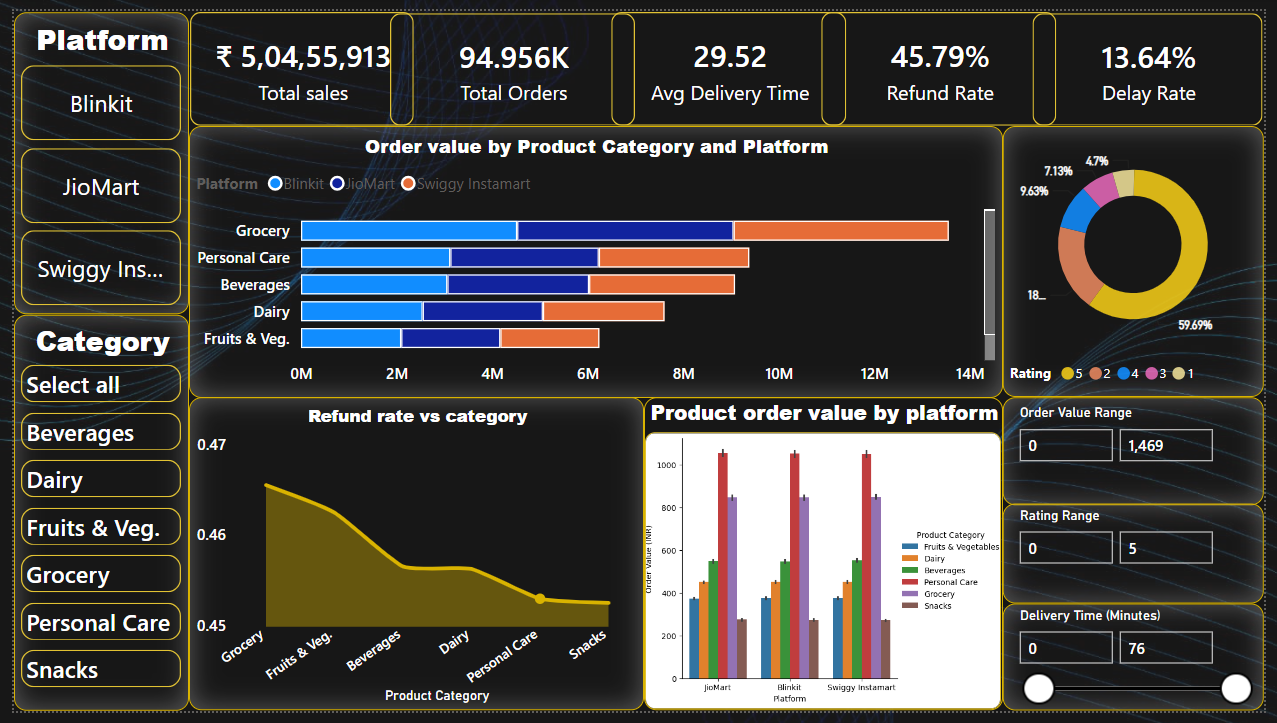

The dashboard page shown, as its layout file describes it:
{"tool":"powerbi","page":{"name":"Interactive Dashboard","canvas":[1000,560],"ordinal":0},"visuals":[{"type":"listSlicer","title":"Category","fields":{"Values":["ecommerce_data.Product Category"]},"box":[0,243,140,317],"z":0},{"type":"advancedSlicerVisual","fields":{"Values":["ecommerce_data.Platform"]},"box":[0,1,140,242],"z":1000},{"type":"cardVisual","fields":{"Data":["Sum(ecommerce_data.Order Value (INR))"]},"box":[140,0,181,99],"z":2000},{"type":"cardVisual","fields":{"Data":["CountNonNull(ecommerce_data.Order ID)"]},"box":[300,1,198,98],"z":3000},{"type":"cardVisual","fields":{"Data":["Avg(ecommerce_data.Delivery Time (Minutes))"]},"box":[477,0,190,99],"z":4000},{"type":"cardVisual","fields":{"Data":["ecommerce_data.Refund_Rate"]},"box":[645,0,190,99],"z":5000},{"type":"cardVisual","fields":{"Data":["ecommerce_data.Delay_Rate"]},"box":[814,1,186,98],"z":6000},{"type":"barChart","fields":{"Category":["ecommerce_data.Product Category"],"Y":["Sum(ecommerce_data.Order Value (INR))"],"Series":["ecommerce_data.Platform"]},"box":[140,92,651,218],"z":7000},{"type":"donutChart","fields":{"Y":["Sum(ecommerce_data.Service Rating)"],"Category":["ecommerce_data.Service Rating"]},"box":[791,92,209,217],"z":8000},{"type":"image","title":"Product order value by platform","box":[504,309,287,251],"z":9000},{"type":"slicer","fields":{"Values":["ecommerce_data.Order Value (INR)"]},"box":[791,309,209,87],"z":10000},{"type":"slicer","fields":{"Values":["ecommerce_data.Service Rating"]},"box":[791,394,209,80],"z":11000},{"type":"slicer","fields":{"Values":["ecommerce_data.Delivery Time (Minutes)"]},"box":[791,474,209,86],"z":12000},{"type":"lineChart","title":"Refund rate vs category","fields":{"Y":["ecommerce_data.Refund_Rate"],"Category":["ecommerce_data.Product Category"]},"box":[140,309,364,251],"z":13001}]}

Visuals, with their boxes in screenshot pixels (x1, y1, x2, y2), scaled from the page's 1000x560 canvas onto the 1277x723 screenshot:
"Category" listSlicer: pyautogui.locateOnScreen(0, 314, 179, 722)
advancedSlicerVisual - ecommerce_data.Platform: pyautogui.locateOnScreen(0, 1, 179, 314)
cardVisual - Sum(ecommerce_data.Order Value (INR)): pyautogui.locateOnScreen(179, 0, 410, 128)
cardVisual - CountNonNull(ecommerce_data.Order ID): pyautogui.locateOnScreen(383, 1, 636, 128)
cardVisual - Avg(ecommerce_data.Delivery Time (Minutes)): pyautogui.locateOnScreen(609, 0, 852, 128)
cardVisual - ecommerce_data.Refund_Rate: pyautogui.locateOnScreen(824, 0, 1066, 128)
cardVisual - ecommerce_data.Delay_Rate: pyautogui.locateOnScreen(1039, 1, 1276, 128)
barChart - ecommerce_data.Product Category x Sum(ecommerce_data.Order Value (INR)): pyautogui.locateOnScreen(179, 119, 1010, 400)
donutChart - Sum(ecommerce_data.Service Rating) x ecommerce_data.Service Rating: pyautogui.locateOnScreen(1010, 119, 1276, 399)
"Product order value by platform" image: pyautogui.locateOnScreen(644, 399, 1010, 722)
slicer - ecommerce_data.Order Value (INR): pyautogui.locateOnScreen(1010, 399, 1276, 511)
slicer - ecommerce_data.Service Rating: pyautogui.locateOnScreen(1010, 509, 1276, 612)
slicer - ecommerce_data.Delivery Time (Minutes): pyautogui.locateOnScreen(1010, 612, 1276, 722)
"Refund rate vs category" lineChart: pyautogui.locateOnScreen(179, 399, 644, 722)
